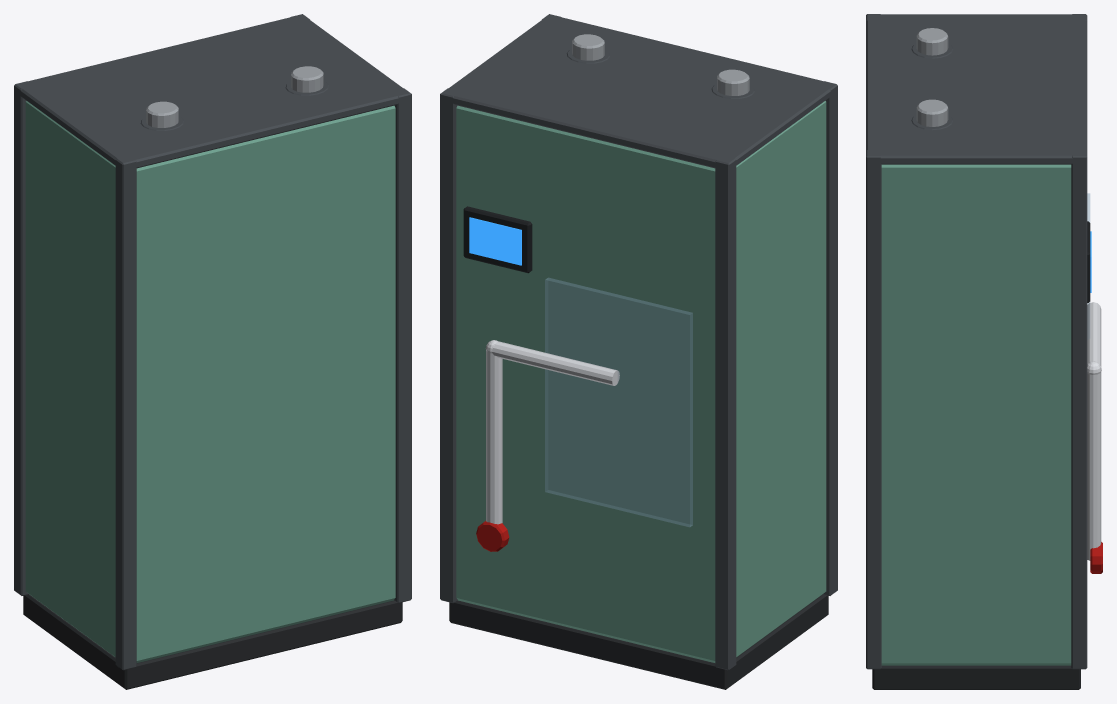
File: water_recycler.glb
The picture shows the model from 3 angles, left to right: view 1: azimuth 30°, elevation 25°; view 2: azimuth 150°, elevation 25°; view 3: azimuth 270°, elevation 25°; orthographic projection.
Parts seen in each view (by area): view 1: water_recycler; view 2: water_recycler; view 3: water_recycler.
Boxes of the visible parts, x1,y1,x2,y2 form: water_recycler: (14, 14, 411, 689); water_recycler: (440, 14, 837, 689); water_recycler: (866, 14, 1102, 689).
Bounding box in the file's own units: 1 × 1.8 × 0.7.
